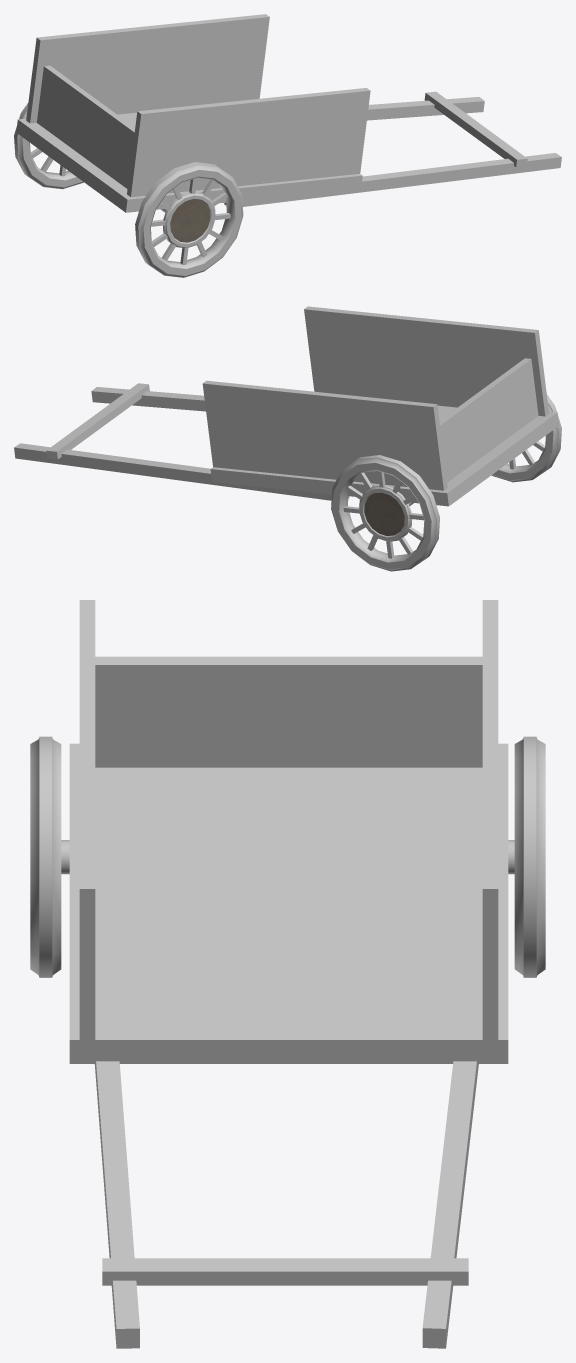
Rendered from prop_cart.fbx.
3 views of the same model, one above another, from view 1: azimuth 30°, elevation 25°; view 2: azimuth 150°, elevation 25°; view 3: azimuth 270°, elevation 25° (orthographic). The views are drawn at different scales.
Parts seen in each view (by area): view 1: prop_cart; view 2: prop_cart; view 3: prop_cart.
Part boxes in pixels (<box>): prop_cart: <box>14,14,561,277</box>; prop_cart: <box>14,306,561,571</box>; prop_cart: <box>30,600,545,1348</box>.
Size of the model in its own units: 379 by 133 by 189.
